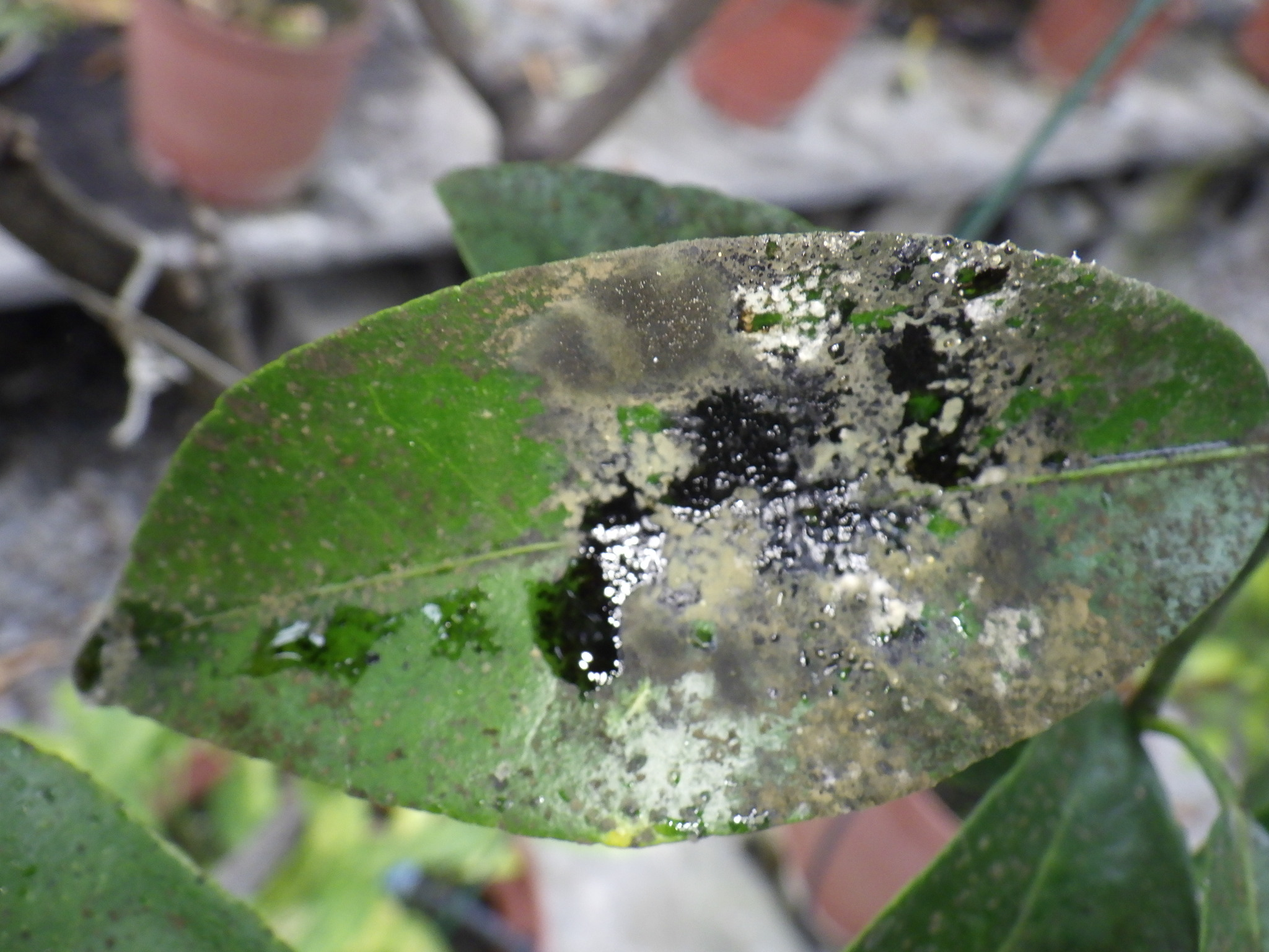Sooty_Mold: (77, 232, 1268, 845)
